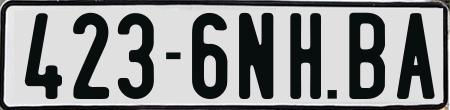2: (71, 12, 112, 100)
3: (117, 10, 159, 99)
4: (24, 13, 63, 103)
6: (191, 13, 226, 104)
A: (395, 11, 431, 101)
B: (349, 10, 388, 96)
H: (288, 12, 320, 98)
N: (238, 12, 273, 103)
